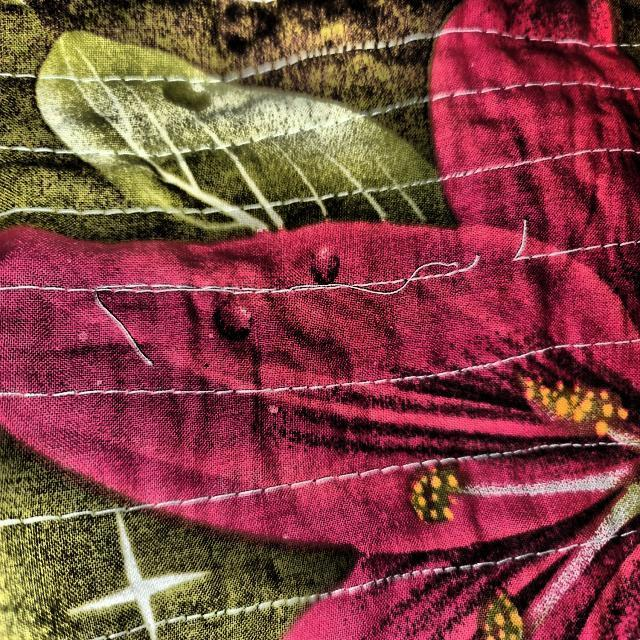gray stitch: (343, 205, 568, 305), (82, 265, 184, 378)
